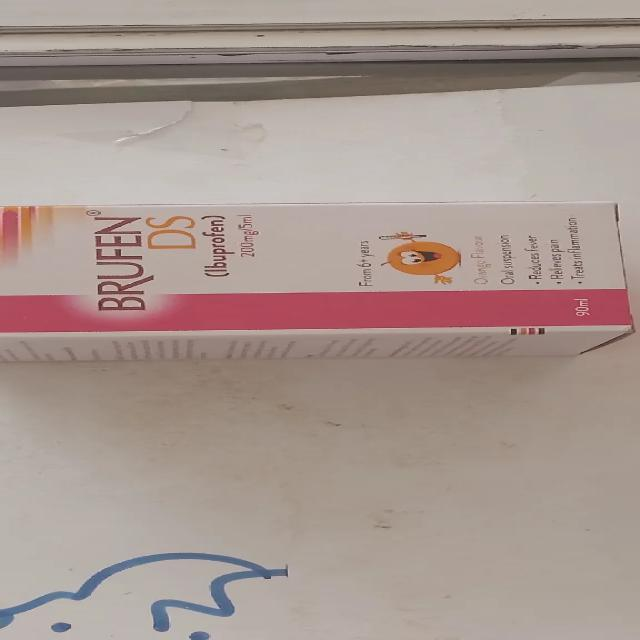drug-name: (81, 208, 199, 318)
